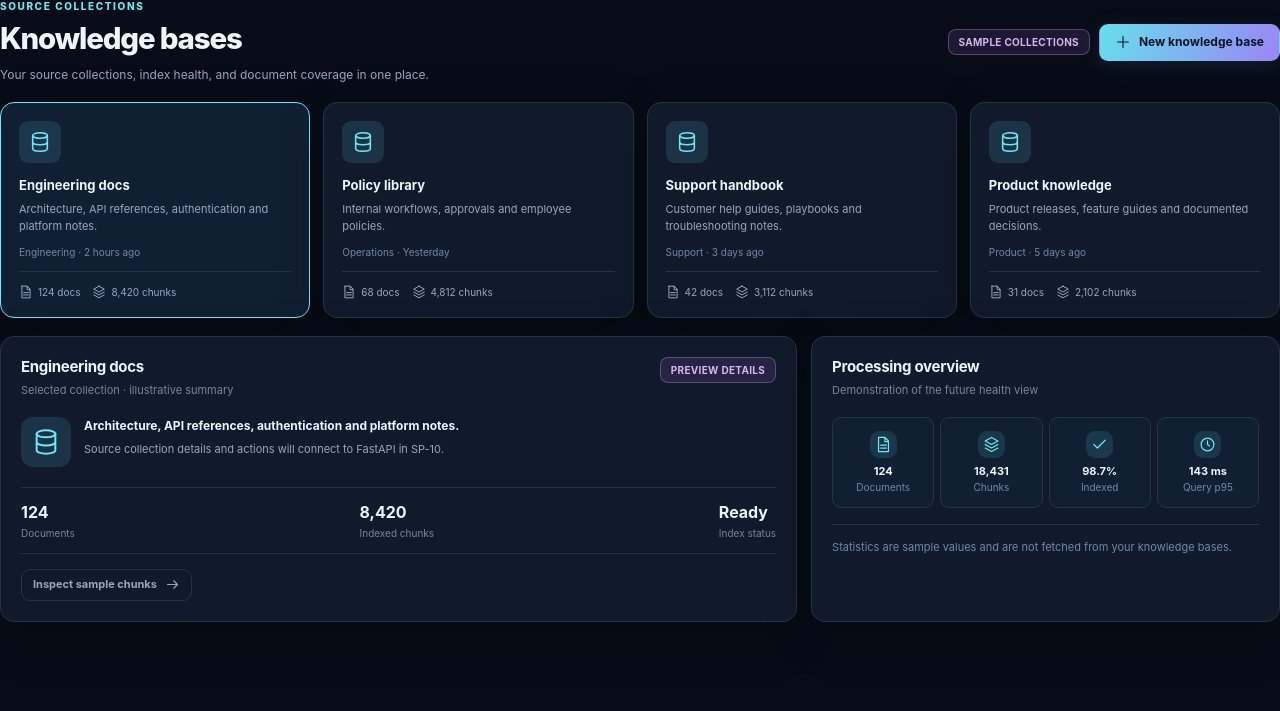
Test case: knowledge bases preview › creates a local demo-only collection without claiming server persistence
Step 1. Click the button "New knowledge base" → coordinates (1189, 42), box [1099, 24, 1279, 60]
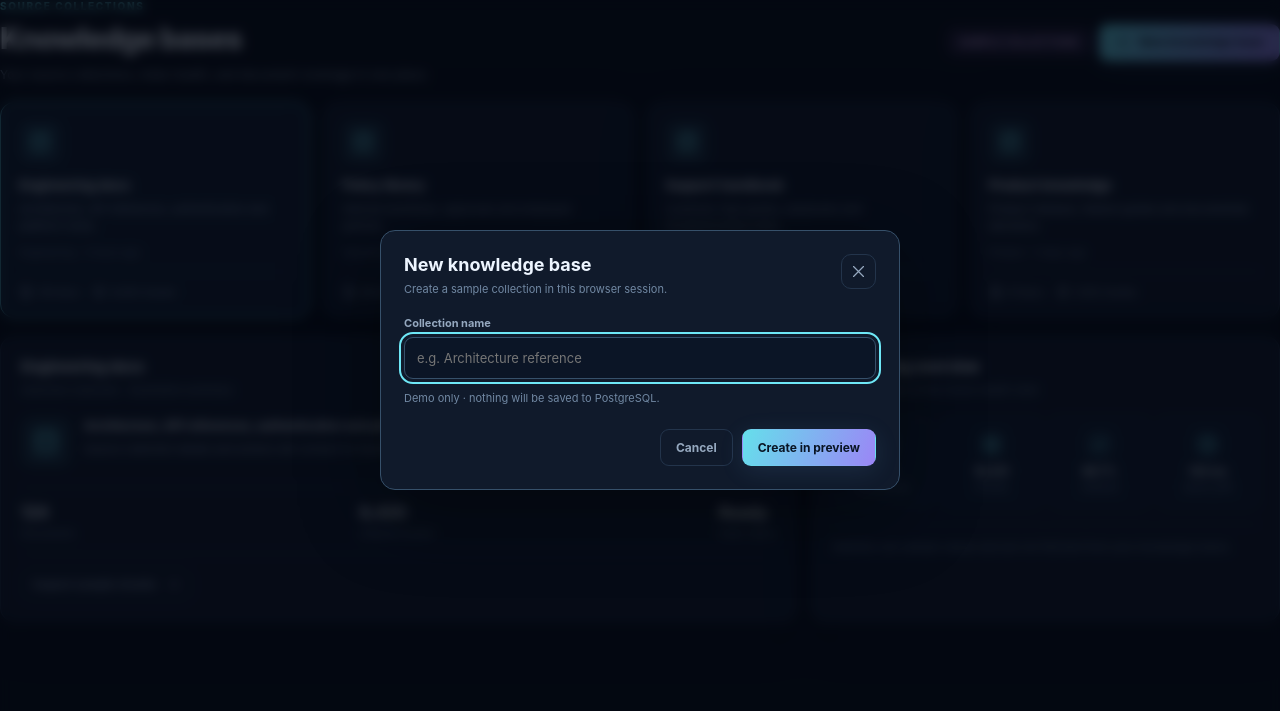
Now the dialog named "New demo knowledge base" is shown, box [380, 230, 900, 490]
Step 2. Type "Architecture reference" into the field labelled "Collection name" → coordinates (640, 358), box [404, 337, 876, 379]
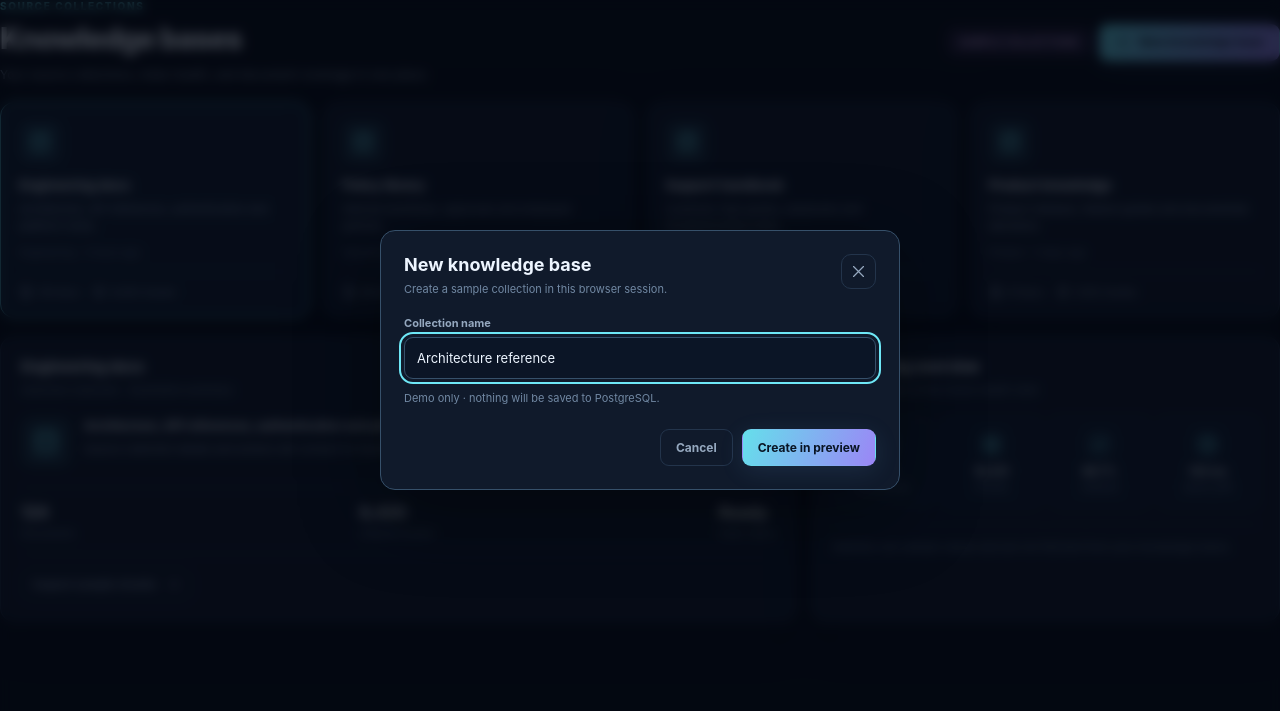
Step 3. Click the button "Create in preview" → coordinates (809, 448), box [742, 429, 876, 466]
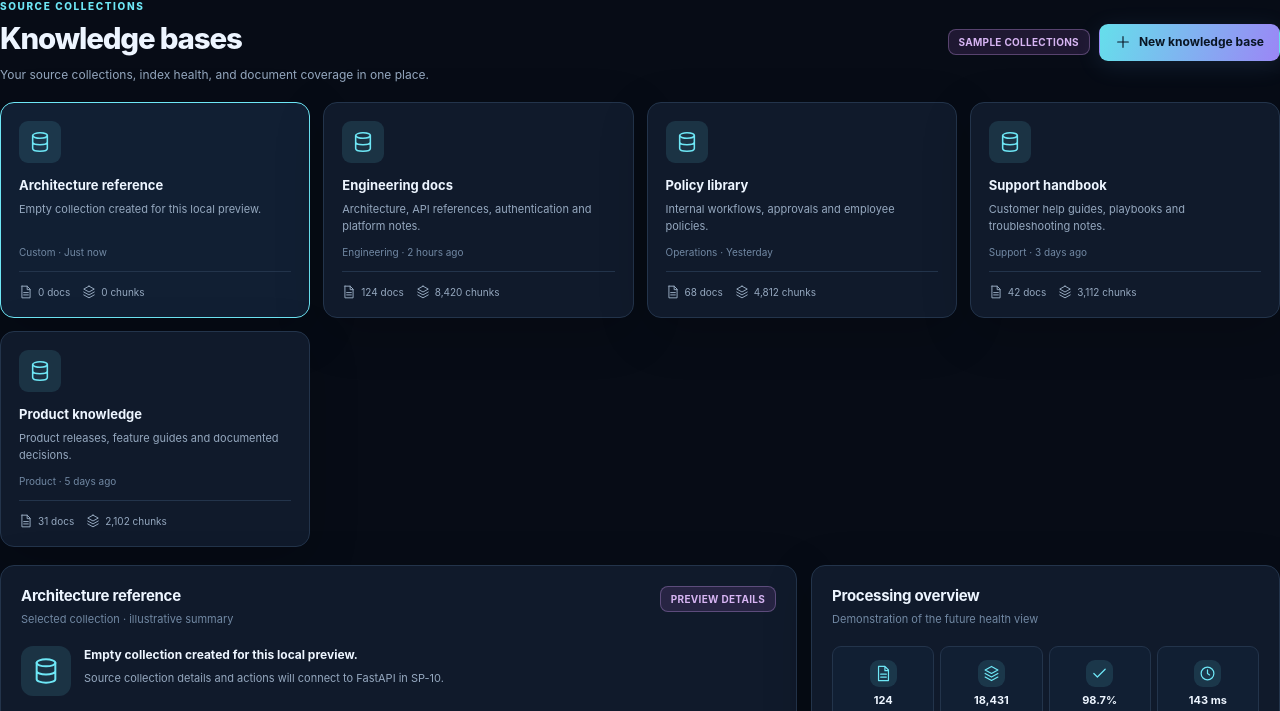
Now the button "Architecture reference" is shown, box [0, 102, 310, 318]
Now the dialog is gone
Now the 1st text "Empty collection created for this local preview." is shown, box [19, 201, 261, 218]
